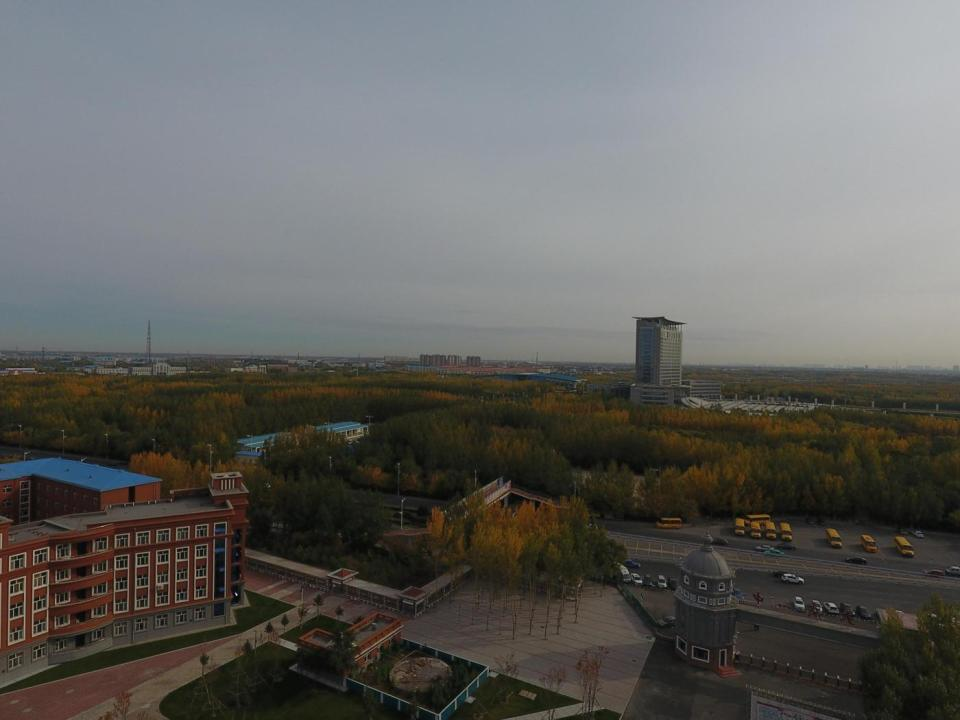bus: (894, 536, 914, 557), (745, 513, 771, 527), (826, 528, 843, 549), (860, 534, 878, 553), (656, 517, 682, 529), (780, 522, 793, 542), (734, 517, 746, 536), (765, 521, 776, 540), (750, 522, 761, 539)
car: (781, 572, 804, 585), (846, 555, 868, 566), (856, 605, 872, 620), (923, 569, 946, 579), (824, 600, 838, 616), (841, 602, 855, 618), (773, 569, 795, 579), (657, 616, 676, 627), (792, 596, 805, 612), (622, 558, 640, 568), (811, 600, 823, 614), (732, 588, 744, 602), (764, 550, 784, 558), (630, 574, 643, 586), (777, 542, 796, 550), (711, 538, 728, 546), (756, 545, 775, 552), (668, 578, 679, 590), (897, 526, 908, 536), (912, 530, 924, 538), (818, 517, 826, 526), (806, 517, 814, 525)
truck: (612, 562, 631, 585), (946, 566, 960, 574)
van: (656, 575, 667, 589), (643, 574, 653, 588)
